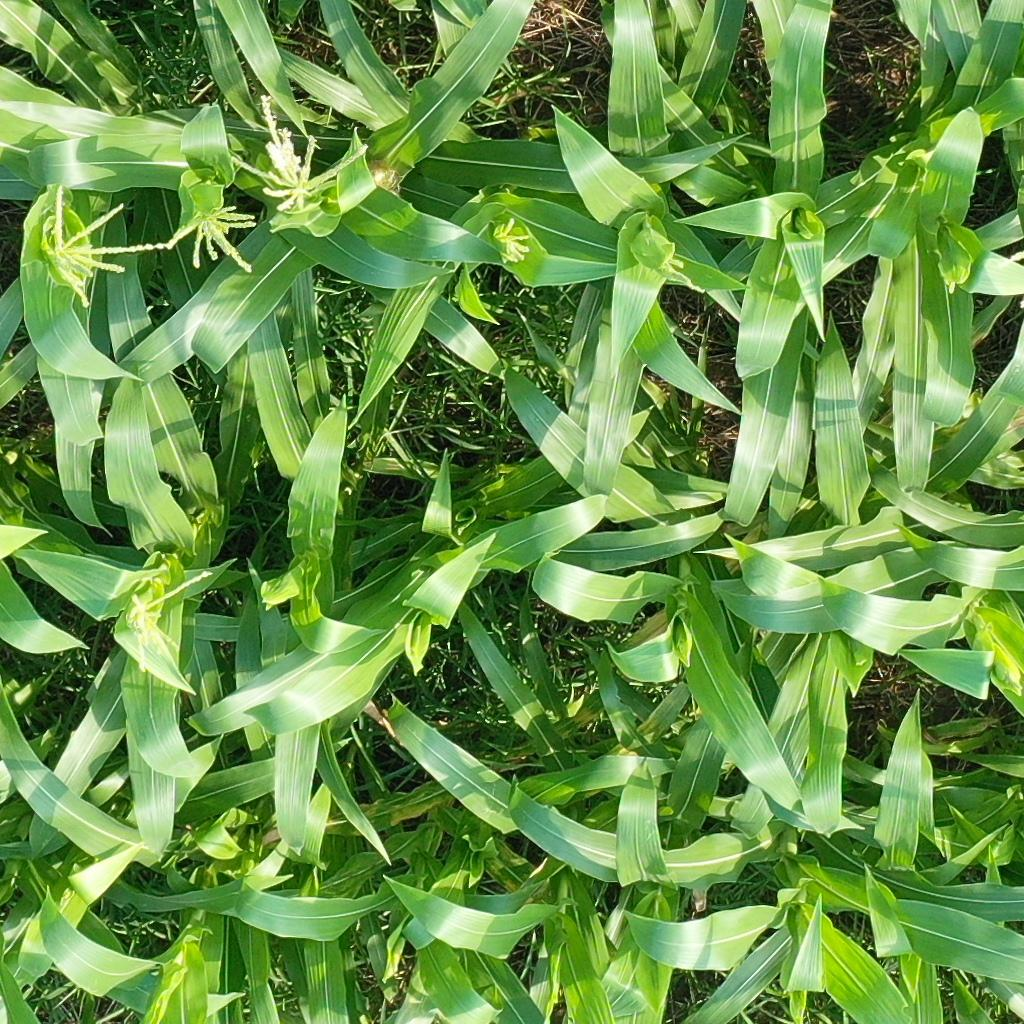Tassel: (36, 184, 172, 313), (228, 93, 372, 214), (111, 558, 218, 684), (169, 202, 262, 279), (488, 210, 539, 272), (649, 250, 712, 298), (1002, 669, 1024, 699)
